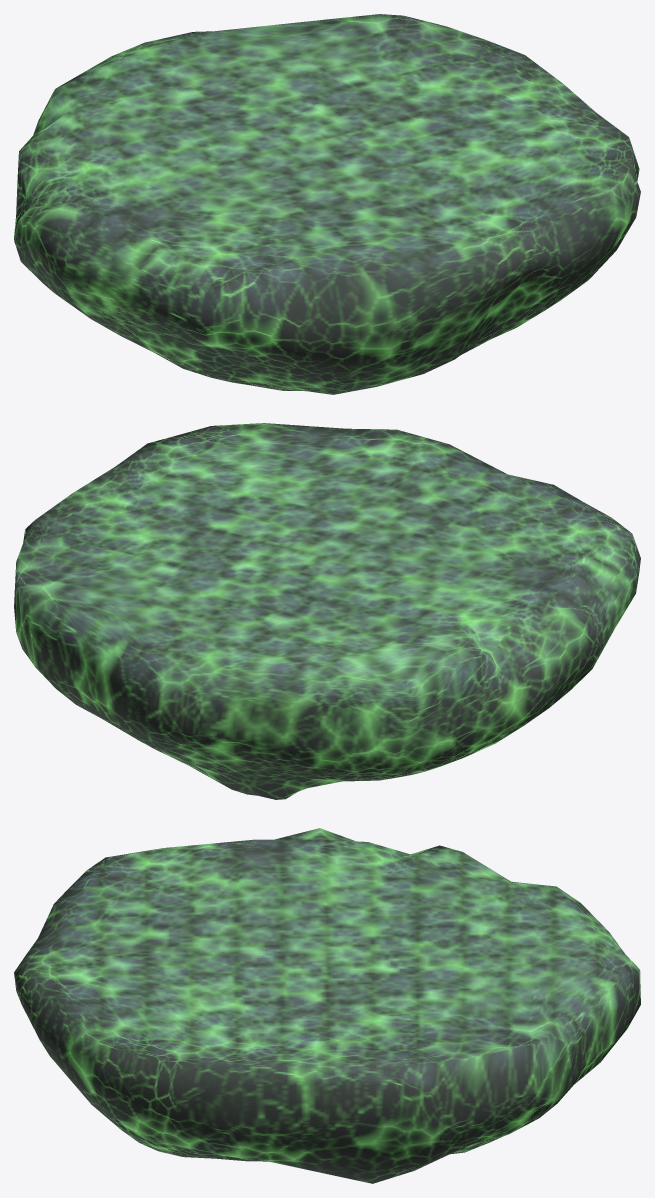
Rendered from final platforms.fbx.
The picture shows the model from 3 angles, top to bottom: view 1: azimuth 30°, elevation 25°; view 2: azimuth 150°, elevation 25°; view 3: azimuth 270°, elevation 25°; orthographic projection. The views are drawn at different scales.
Parts seen in each view (by area): view 1: lp; view 2: lp; view 3: lp.
Boxes of the visible parts, x1,y1,x2,y2 form: lp: [14, 14, 640, 394]; lp: [14, 423, 640, 799]; lp: [14, 828, 640, 1183].
Bounding box in the file's own units: 367 × 141 × 380.
